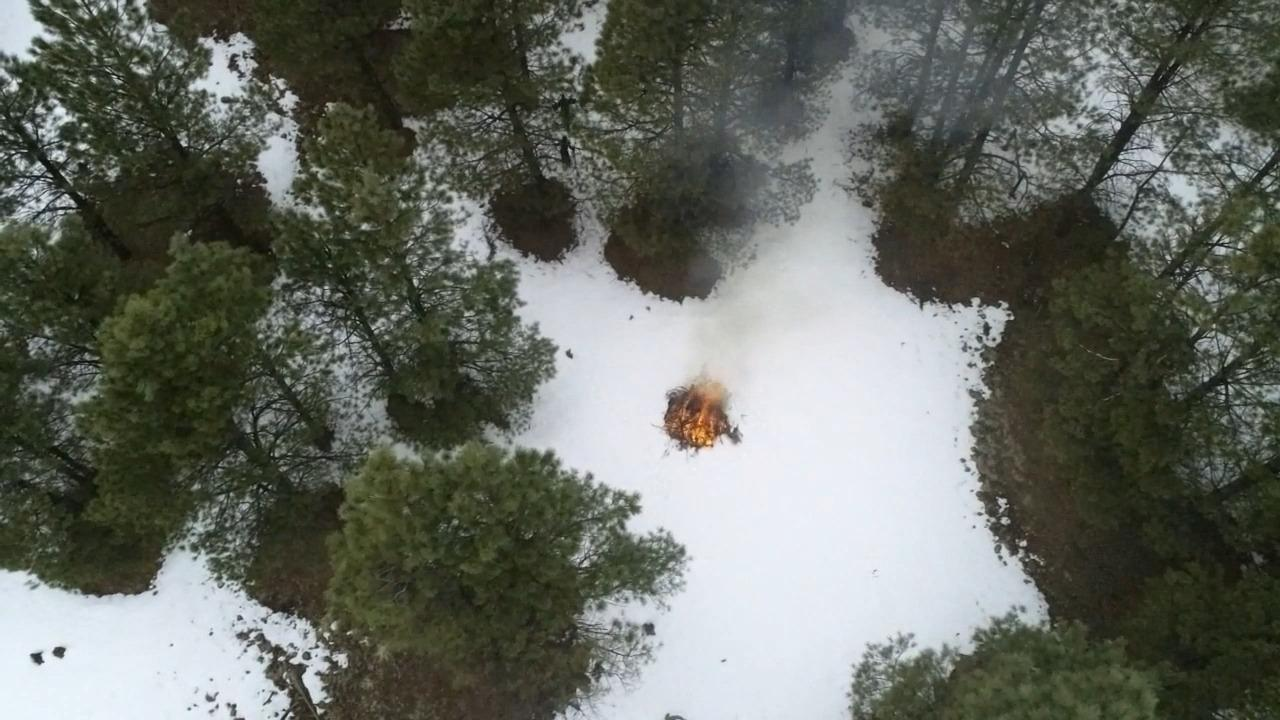fire: (662, 366, 727, 446)
smoke: (847, 0, 1043, 130)
